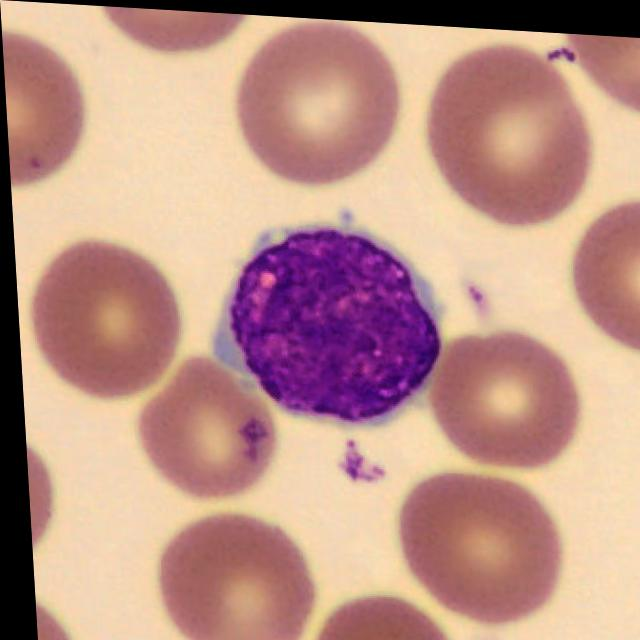Linfocito: (224, 228, 439, 420)
